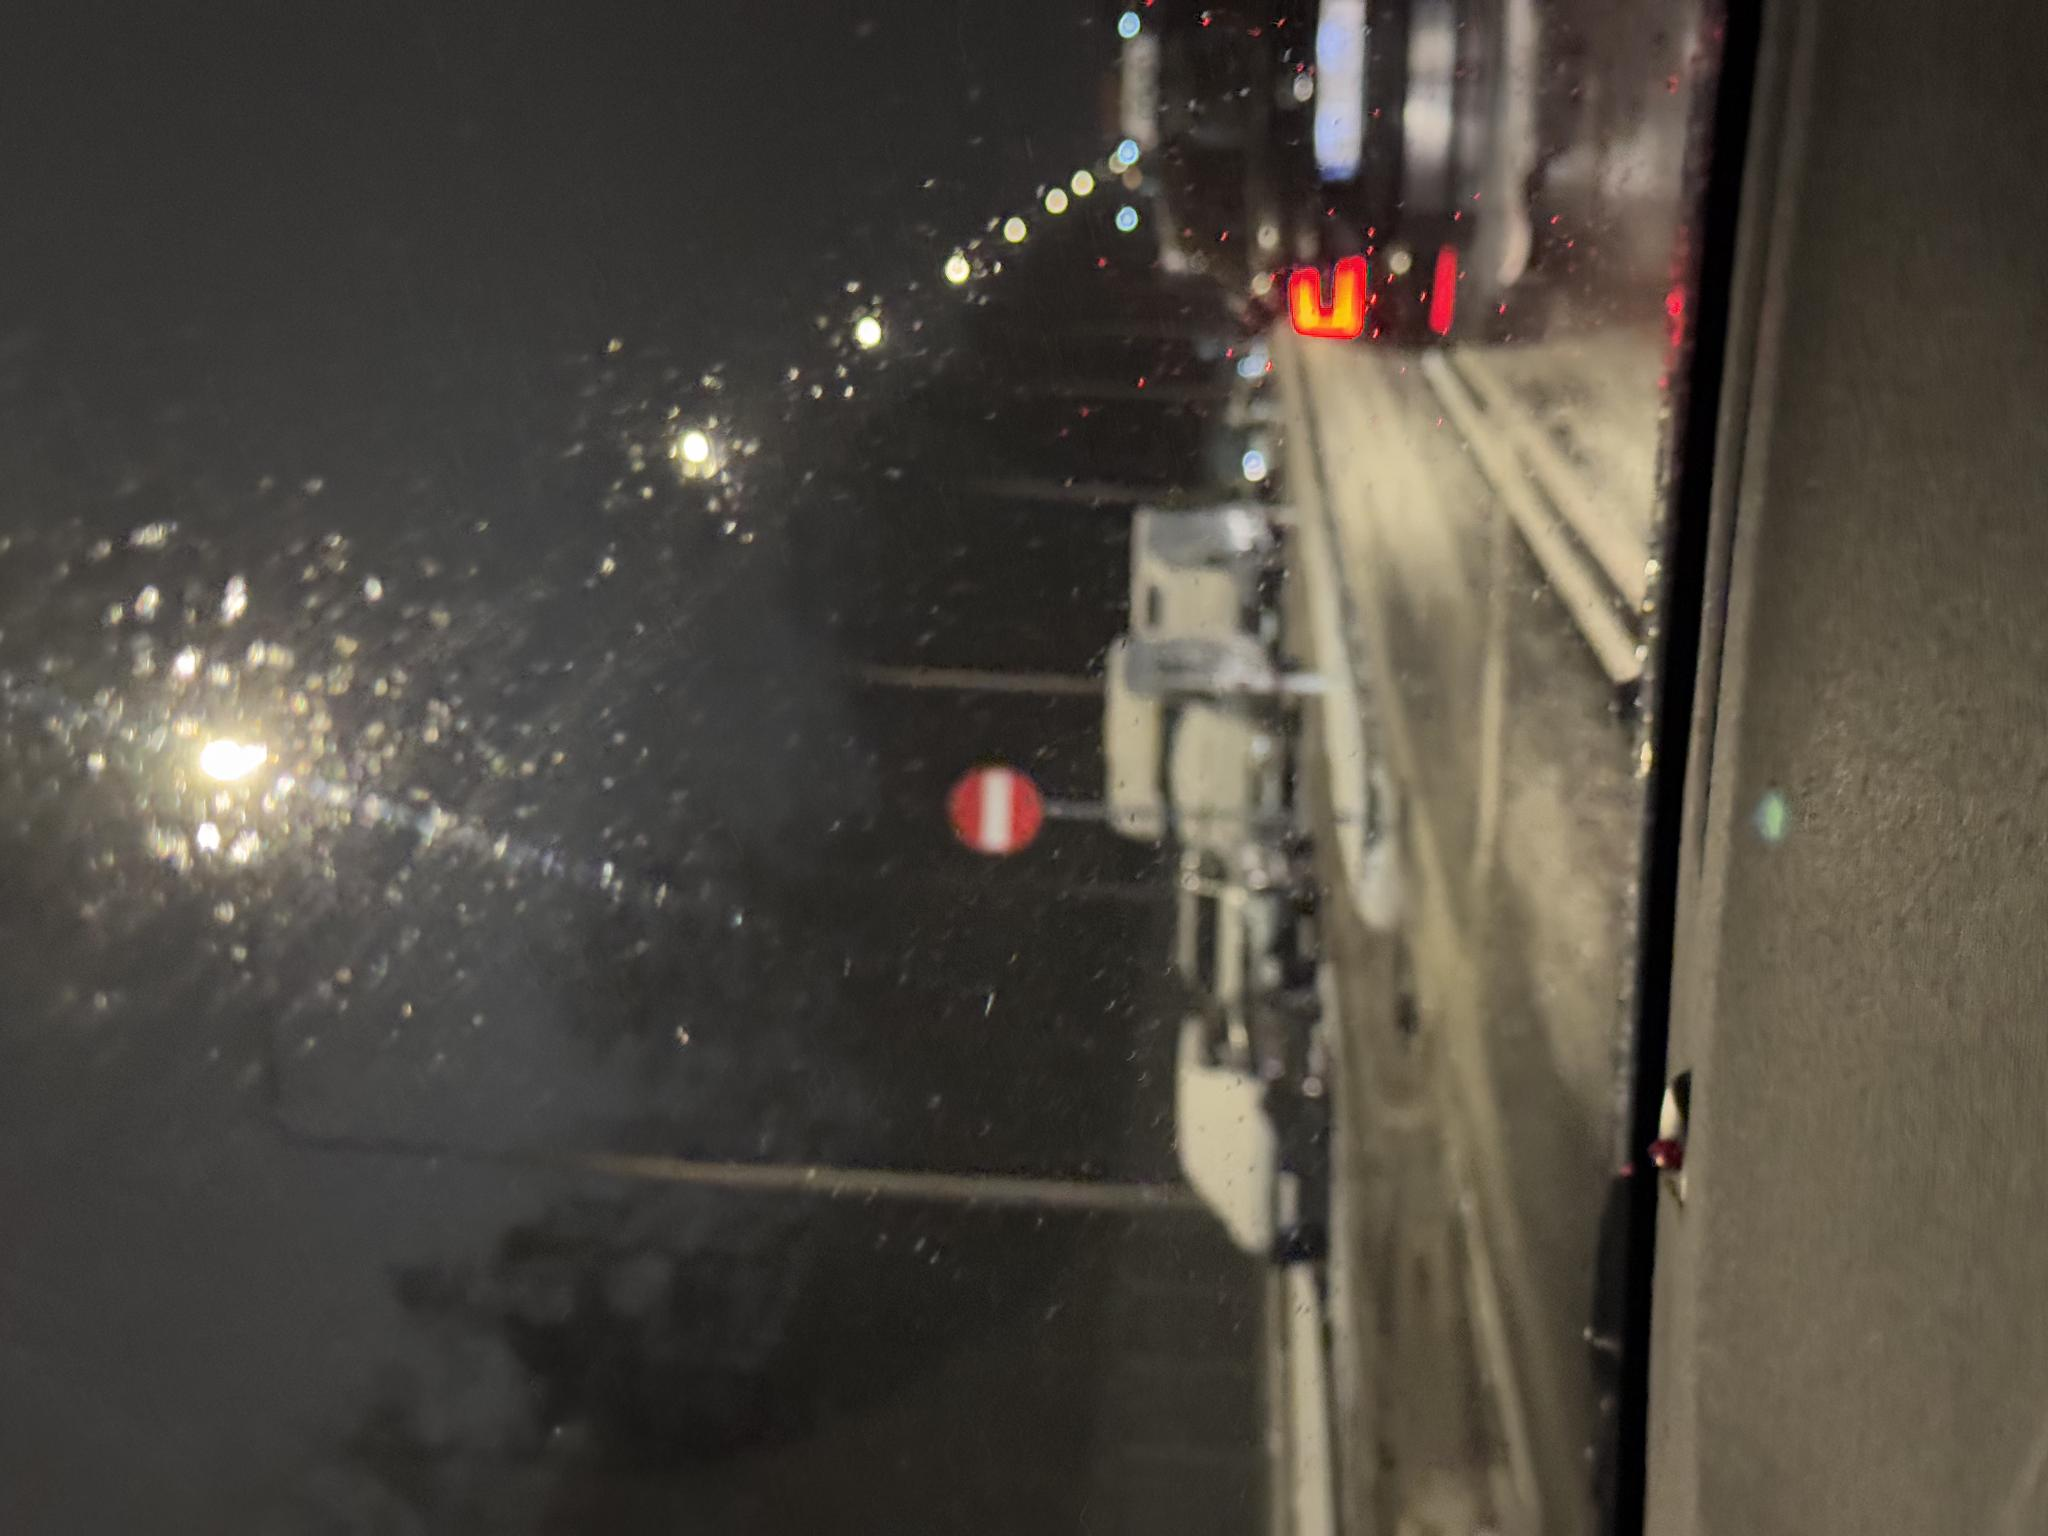prohibitory: (679, 947, 771, 1044)
